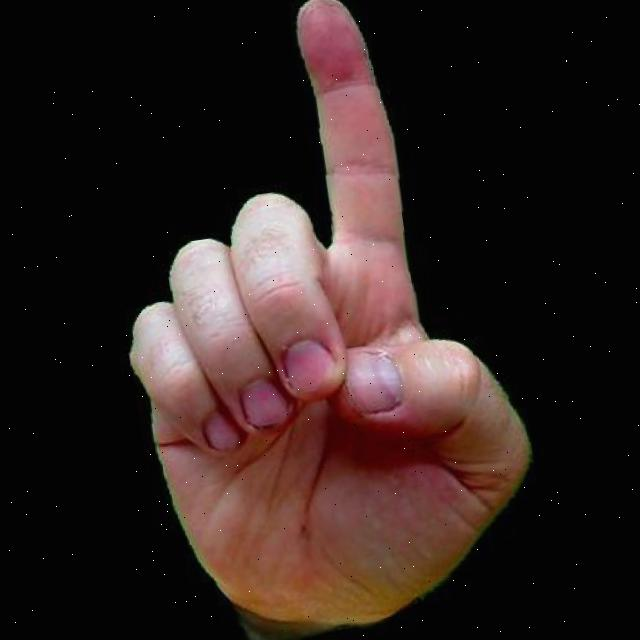d: (71, 0, 564, 640)
